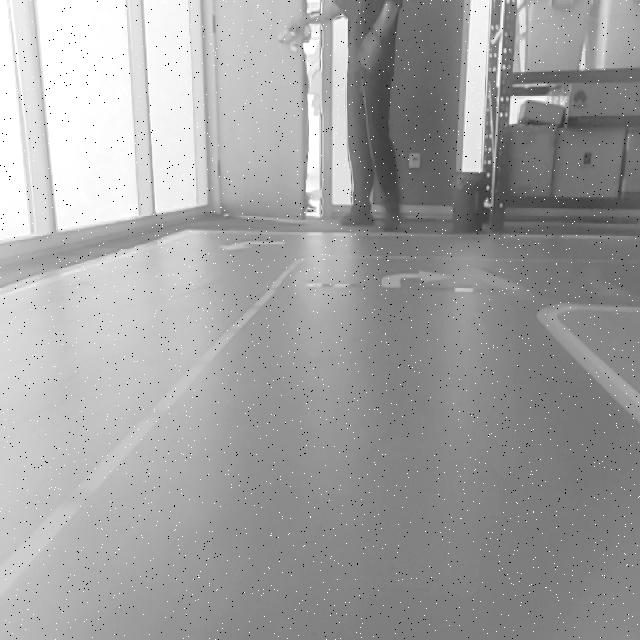left_lane: (0, 261, 297, 597)
right_lane: (545, 319, 640, 428)
